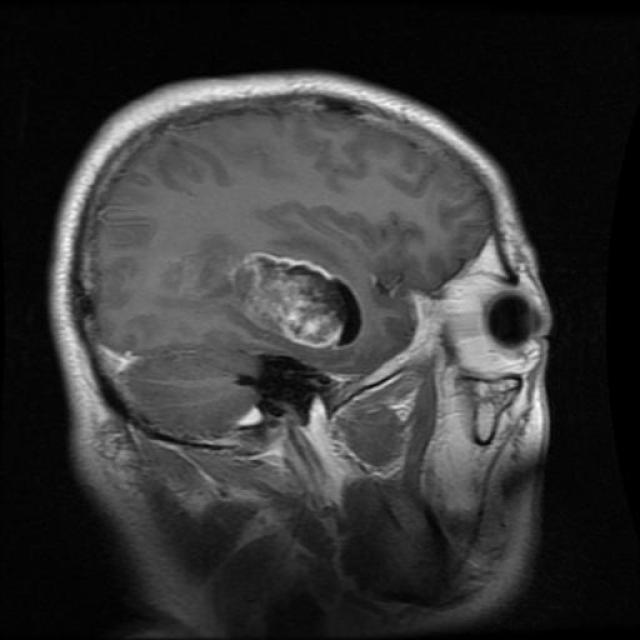glioma: (234, 254, 364, 348)
